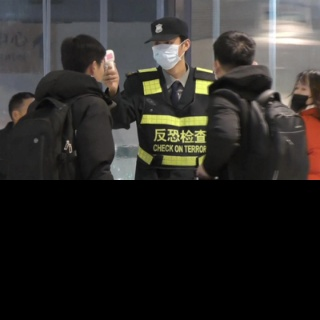with_mask: (150, 40, 181, 71), (290, 83, 311, 111)
